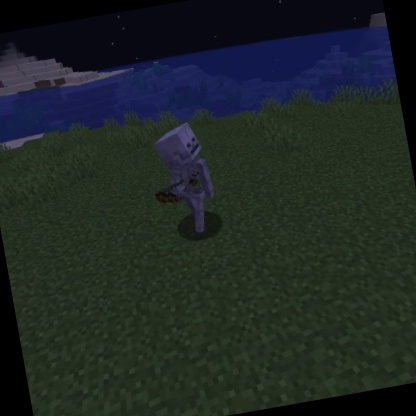skeleton: (138, 116, 227, 244)
